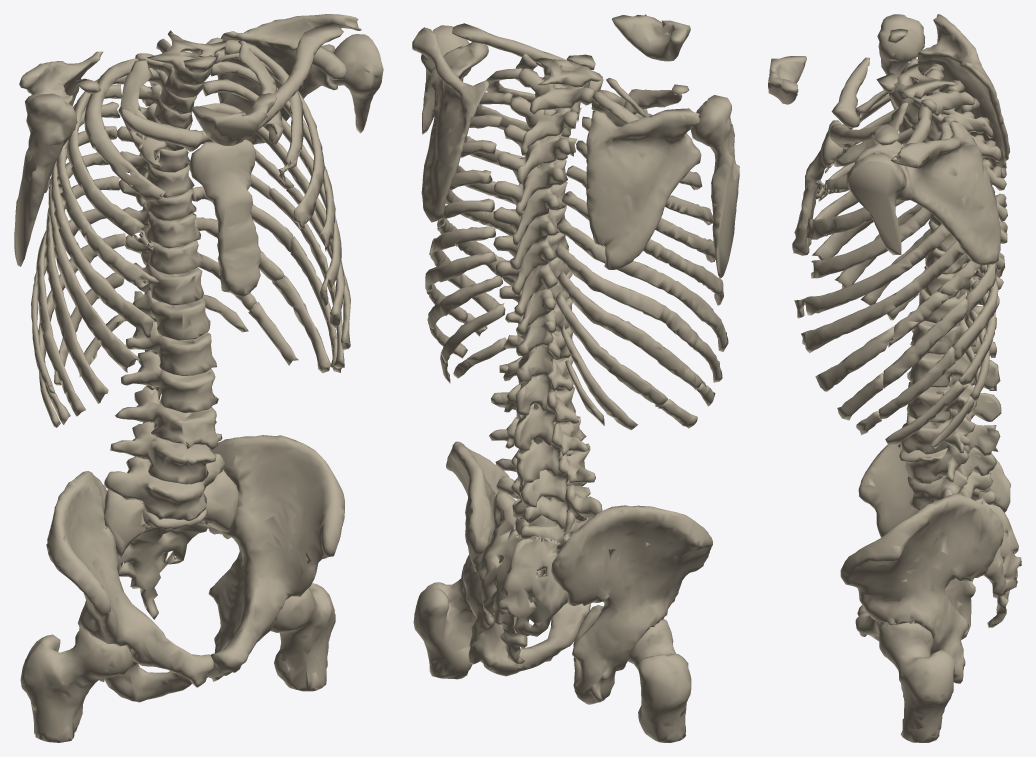
Rendered from tsd_s0327_older_adult_male.skeletal.LOD3.glb.
3 views of the same model, side by side, from view 1: azimuth 30°, elevation 25°; view 2: azimuth 150°, elevation 25°; view 3: azimuth 270°, elevation 25° (orthographic). The views are drawn at different scales.
Parts seen in each view (by area): view 1: TSD_S0327.OLDER_ADULT.MALE.SKELETAL.HIP_BONE_OS_COXAE.L, TSD_S0327.OLDER_ADULT.MALE.SKELETAL.HIP_BONE_OS_COXAE.R, TSD_S0327.OLDER_ADULT.MALE.SKELETAL.FEMUR.R, TSD_S0327.OLDER_ADULT.MALE.SKELETAL.SACRUM, TSD_S0327.OLDER_ADULT.MALE.SKELETAL.STERNUM, TSD_S0327.OLDER_ADULT.MALE.SKELETAL.SCAPULA.L, TSD_S0327.OLDER_ADULT.MALE.SKELETAL.HUMERUS.R, TSD_S0327.OLDER_ADULT.MALE.SKELETAL.FEMUR.L, TSD_S0327.OLDER_ADULT.MALE.SKELETAL.VERTEBRA_L5, TSD_S0327.OLDER_ADULT.MALE.SKELETAL.VERTEBRA_L4, TSD_S0327.OLDER_ADULT.MALE.SKELETAL.VERTEBRA_L3, TSD_S0327.OLDER_ADULT.MALE.SKELETAL.RIB_5.R (+41 smaller); view 2: TSD_S0327.OLDER_ADULT.MALE.SKELETAL.HIP_BONE_OS_COXAE.R, TSD_S0327.OLDER_ADULT.MALE.SKELETAL.SCAPULA.R, TSD_S0327.OLDER_ADULT.MALE.SKELETAL.SACRUM, TSD_S0327.OLDER_ADULT.MALE.SKELETAL.HIP_BONE_OS_COXAE.L, TSD_S0327.OLDER_ADULT.MALE.SKELETAL.SCAPULA.L, TSD_S0327.OLDER_ADULT.MALE.SKELETAL.FEMUR.R, TSD_S0327.OLDER_ADULT.MALE.SKELETAL.FEMUR.L, TSD_S0327.OLDER_ADULT.MALE.SKELETAL.HUMERUS.R, TSD_S0327.OLDER_ADULT.MALE.SKELETAL.RIB_8.R, TSD_S0327.OLDER_ADULT.MALE.SKELETAL.RIB_7.R, TSD_S0327.OLDER_ADULT.MALE.SKELETAL.VERTEBRA_L3, TSD_S0327.OLDER_ADULT.MALE.SKELETAL.RIB_9.R (+39 smaller); view 3: TSD_S0327.OLDER_ADULT.MALE.SKELETAL.HIP_BONE_OS_COXAE.L, TSD_S0327.OLDER_ADULT.MALE.SKELETAL.SCAPULA.L, TSD_S0327.OLDER_ADULT.MALE.SKELETAL.FEMUR.L, TSD_S0327.OLDER_ADULT.MALE.SKELETAL.HIP_BONE_OS_COXAE.R, TSD_S0327.OLDER_ADULT.MALE.SKELETAL.SCAPULA.R, TSD_S0327.OLDER_ADULT.MALE.SKELETAL.HUMERUS.L, TSD_S0327.OLDER_ADULT.MALE.SKELETAL.RIB_9.L, TSD_S0327.OLDER_ADULT.MALE.SKELETAL.RIB_6.L, TSD_S0327.OLDER_ADULT.MALE.SKELETAL.RIB_5.L, TSD_S0327.OLDER_ADULT.MALE.SKELETAL.VERTEBRA_L3, TSD_S0327.OLDER_ADULT.MALE.SKELETAL.VERTEBRA_L4, TSD_S0327.OLDER_ADULT.MALE.SKELETAL.RIB_8.L (+30 smaller).
Boxes of the visible parts, box(x1,y1,x2,y2) form: TSD_S0327.OLDER_ADULT.MALE.SKELETAL.HIP_BONE_OS_COXAE.L: box(208, 435, 344, 681); TSD_S0327.OLDER_ADULT.MALE.SKELETAL.HIP_BONE_OS_COXAE.R: box(46, 471, 213, 702); TSD_S0327.OLDER_ADULT.MALE.SKELETAL.FEMUR.R: box(20, 629, 133, 742); TSD_S0327.OLDER_ADULT.MALE.SKELETAL.SACRUM: box(103, 470, 238, 619); TSD_S0327.OLDER_ADULT.MALE.SKELETAL.STERNUM: box(189, 139, 260, 296); TSD_S0327.OLDER_ADULT.MALE.SKELETAL.SCAPULA.L: box(217, 14, 361, 144); TSD_S0327.OLDER_ADULT.MALE.SKELETAL.HUMERUS.R: box(14, 93, 77, 266); TSD_S0327.OLDER_ADULT.MALE.SKELETAL.FEMUR.L: box(270, 583, 335, 691); TSD_S0327.OLDER_ADULT.MALE.SKELETAL.VERTEBRA_L5: box(104, 453, 224, 520); TSD_S0327.OLDER_ADULT.MALE.SKELETAL.VERTEBRA_L4: box(110, 421, 222, 484); TSD_S0327.OLDER_ADULT.MALE.SKELETAL.VERTEBRA_L3: box(115, 386, 218, 449); TSD_S0327.OLDER_ADULT.MALE.SKELETAL.RIB_5.R: box(50, 101, 154, 337); TSD_S0327.OLDER_ADULT.MALE.SKELETAL.HIP_BONE_OS_COXAE.R: box(551, 505, 712, 704); TSD_S0327.OLDER_ADULT.MALE.SKELETAL.SCAPULA.R: box(586, 108, 701, 269); TSD_S0327.OLDER_ADULT.MALE.SKELETAL.SACRUM: box(478, 491, 592, 664); TSD_S0327.OLDER_ADULT.MALE.SKELETAL.HIP_BONE_OS_COXAE.L: box(446, 441, 590, 676); TSD_S0327.OLDER_ADULT.MALE.SKELETAL.SCAPULA.L: box(412, 27, 488, 222); TSD_S0327.OLDER_ADULT.MALE.SKELETAL.FEMUR.R: box(628, 619, 691, 742); TSD_S0327.OLDER_ADULT.MALE.SKELETAL.FEMUR.L: box(413, 563, 476, 679); TSD_S0327.OLDER_ADULT.MALE.SKELETAL.HUMERUS.R: box(691, 95, 739, 278); TSD_S0327.OLDER_ADULT.MALE.SKELETAL.RIB_8.R: box(554, 243, 722, 382); TSD_S0327.OLDER_ADULT.MALE.SKELETAL.RIB_7.R: box(556, 217, 728, 351); TSD_S0327.OLDER_ADULT.MALE.SKELETAL.VERTEBRA_L3: box(489, 416, 589, 487); TSD_S0327.OLDER_ADULT.MALE.SKELETAL.RIB_9.R: box(557, 271, 706, 389); TSD_S0327.OLDER_ADULT.MALE.SKELETAL.HIP_BONE_OS_COXAE.L: box(840, 493, 1003, 683); TSD_S0327.OLDER_ADULT.MALE.SKELETAL.SCAPULA.L: box(855, 120, 1000, 265); TSD_S0327.OLDER_ADULT.MALE.SKELETAL.FEMUR.L: box(878, 622, 955, 742); TSD_S0327.OLDER_ADULT.MALE.SKELETAL.HIP_BONE_OS_COXAE.R: box(857, 442, 1010, 639); TSD_S0327.OLDER_ADULT.MALE.SKELETAL.SCAPULA.R: box(917, 14, 1009, 178); TSD_S0327.OLDER_ADULT.MALE.SKELETAL.HUMERUS.L: box(845, 154, 905, 255); TSD_S0327.OLDER_ADULT.MALE.SKELETAL.RIB_9.L: box(856, 265, 998, 434); TSD_S0327.OLDER_ADULT.MALE.SKELETAL.RIB_6.L: box(801, 241, 964, 353); TSD_S0327.OLDER_ADULT.MALE.SKELETAL.RIB_5.L: box(794, 223, 950, 318); TSD_S0327.OLDER_ADULT.MALE.SKELETAL.VERTEBRA_L3: box(900, 409, 1000, 455); TSD_S0327.OLDER_ADULT.MALE.SKELETAL.VERTEBRA_L4: box(898, 441, 996, 483); TSD_S0327.OLDER_ADULT.MALE.SKELETAL.RIB_8.L: box(837, 263, 996, 420).
Size of the model in its own units: 0.3355 by 0.6438 by 0.2462.
